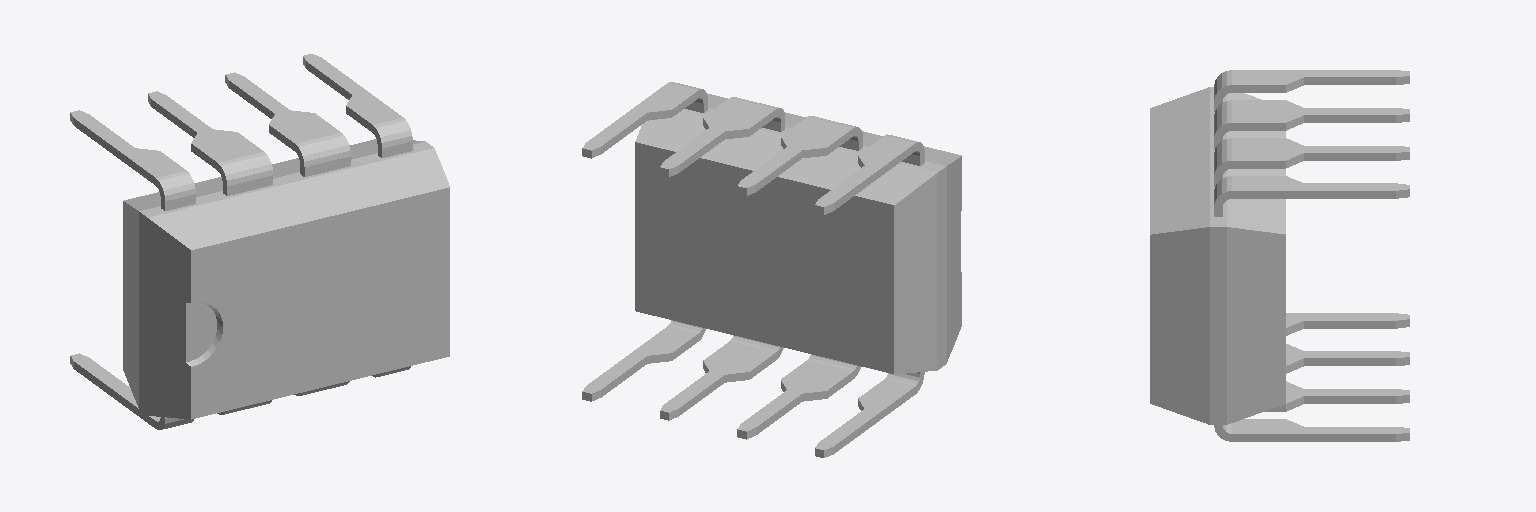
The model's file is DIP-8P-M01.obj.
The picture shows the model from 3 angles: view 1: azimuth 30°, elevation 25°; view 2: azimuth 150°, elevation 25°; view 3: azimuth 270°, elevation 25°; orthographic projection.
Parts seen in each view (by area): view 1: Solid1; view 2: Solid1; view 3: Solid1.
Boxes of the visible parts, x1=… form: Solid1: x1=70, y1=54, x2=449, y2=429; Solid1: x1=582, y1=82, x2=961, y2=457; Solid1: x1=1150, y1=70, x2=1409, y2=441.
Size of the model in its own units: 9.4 by 7.87 by 7.36.